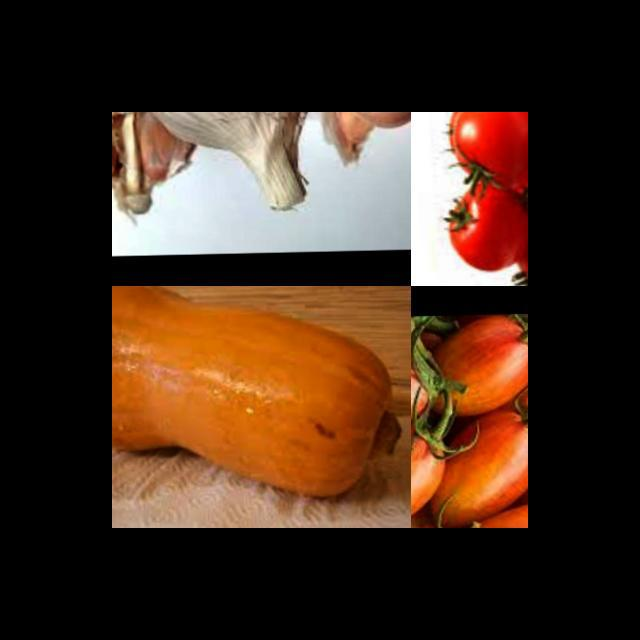garlic: (112, 112, 336, 223), (112, 112, 212, 223), (310, 112, 411, 187)
tomato: (411, 312, 528, 528), (434, 184, 527, 282), (441, 112, 528, 191)
